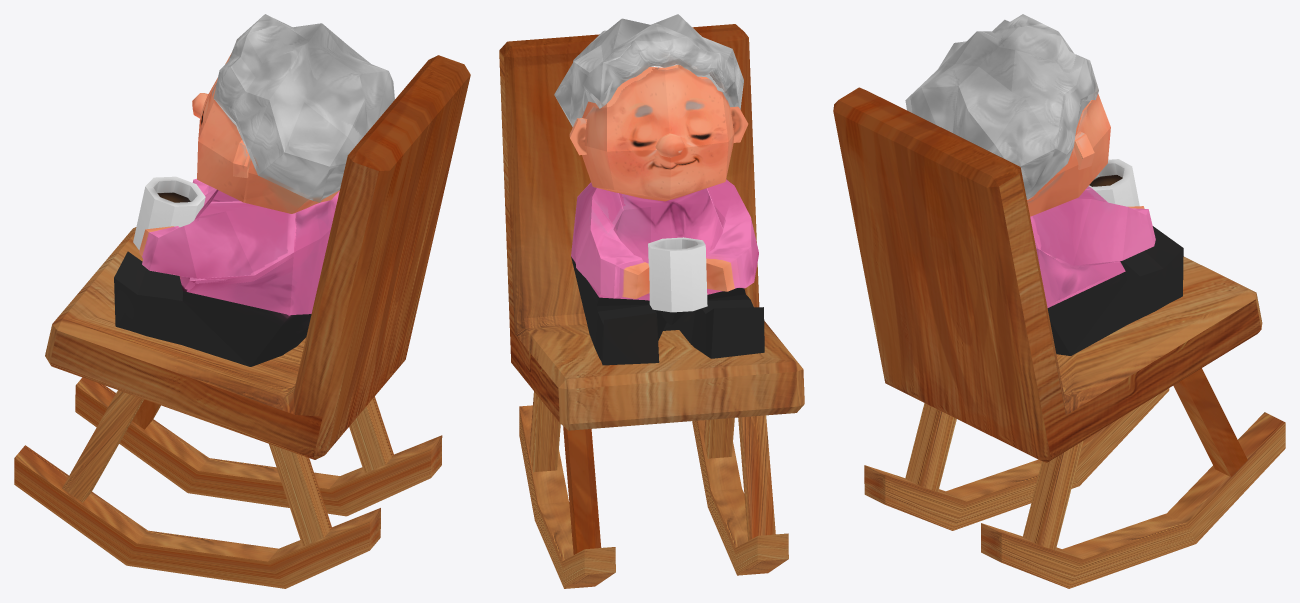
The model's file is grandmother.gltf.
3 renders of one model, left to right at view 1: azimuth 30°, elevation 25°; view 2: azimuth 150°, elevation 25°; view 3: azimuth 270°, elevation 25°, orthographic. The views are drawn at different scales.
Parts seen in each view (by area): view 1: Cube.050, Cube.023, Cube.074, Cube.183; view 2: Cube.050, Cube.074, Cube.023, Cube.183; view 3: Cube.050, Cube.074, Cube.023, Cube.183.
Part boxes in pixels (left/top/right/bottom): Cube.050: left=14, top=55, right=470, bottom=588; Cube.023: left=114, top=178, right=339, bottom=366; Cube.074: left=192, top=14, right=394, bottom=213; Cube.183: left=133, top=176, right=205, bottom=250; Cube.050: left=499, top=24, right=804, bottom=588; Cube.074: left=554, top=14, right=748, bottom=201; Cube.023: left=571, top=179, right=764, bottom=365; Cube.183: left=648, top=237, right=707, bottom=312; Cube.050: left=833, top=87, right=1285, bottom=588; Cube.074: left=905, top=14, right=1110, bottom=216; Cube.023: left=1030, top=186, right=1183, bottom=355; Cube.183: left=1089, top=159, right=1139, bottom=206.
Size of the model in its own units: 4.91 by 6.51 by 5.19.
Materials: 5 (5 with a texture image).
